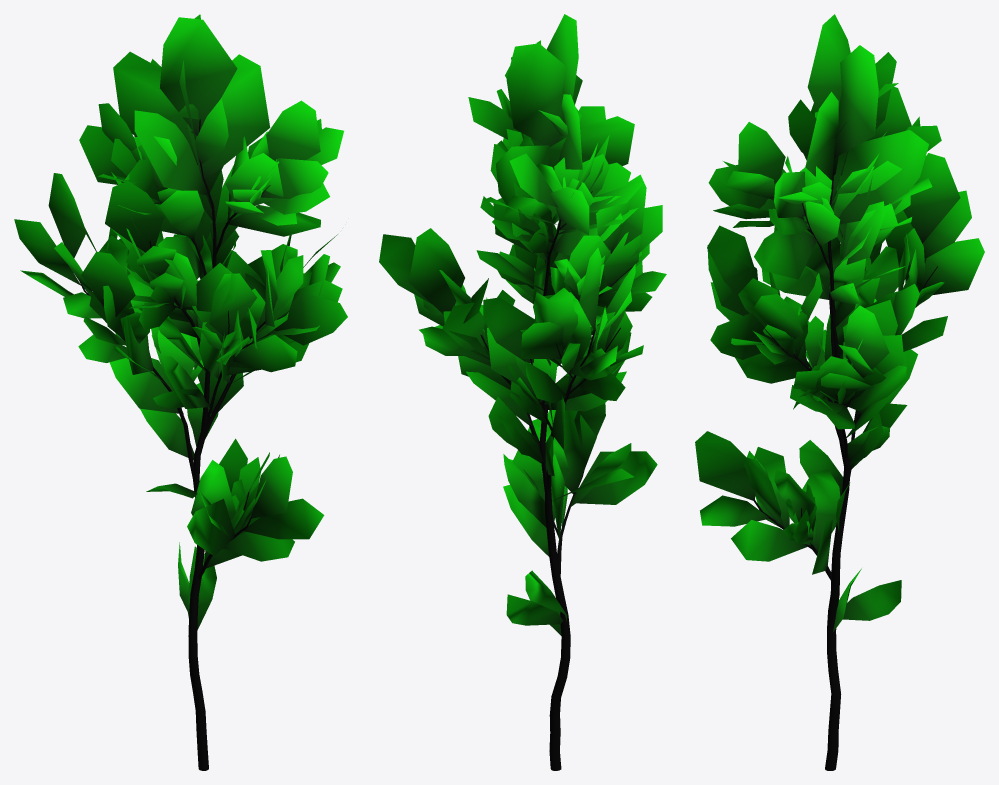
File: Oak_Small_6.fbx
3 views of the same model, side by side, from view 1: azimuth 30°, elevation 25°; view 2: azimuth 150°, elevation 25°; view 3: azimuth 270°, elevation 25° (orthographic).
Parts seen in each view (by area): view 1: Oak_Small_6; view 2: Oak_Small_6; view 3: Oak_Small_6.
Part boxes in pixels (x1,y1,x2,y2): Oak_Small_6: (14,14,347,770); Oak_Small_6: (379,14,666,770); Oak_Small_6: (695,14,984,770).
Size of the model in its own units: 5.42 by 13.87 by 4.9.
